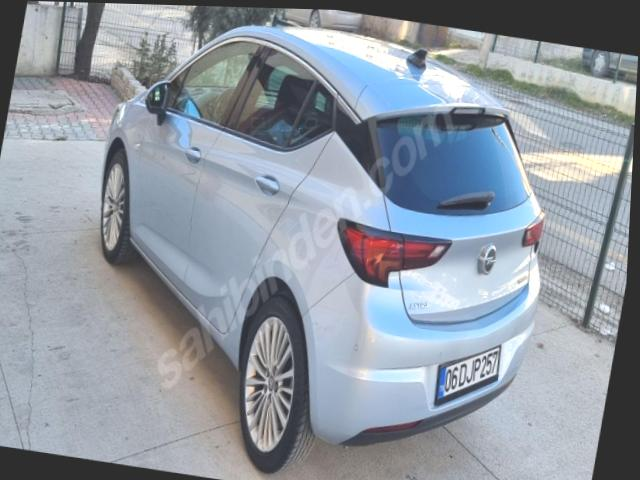plaka: (435, 346, 500, 405)
